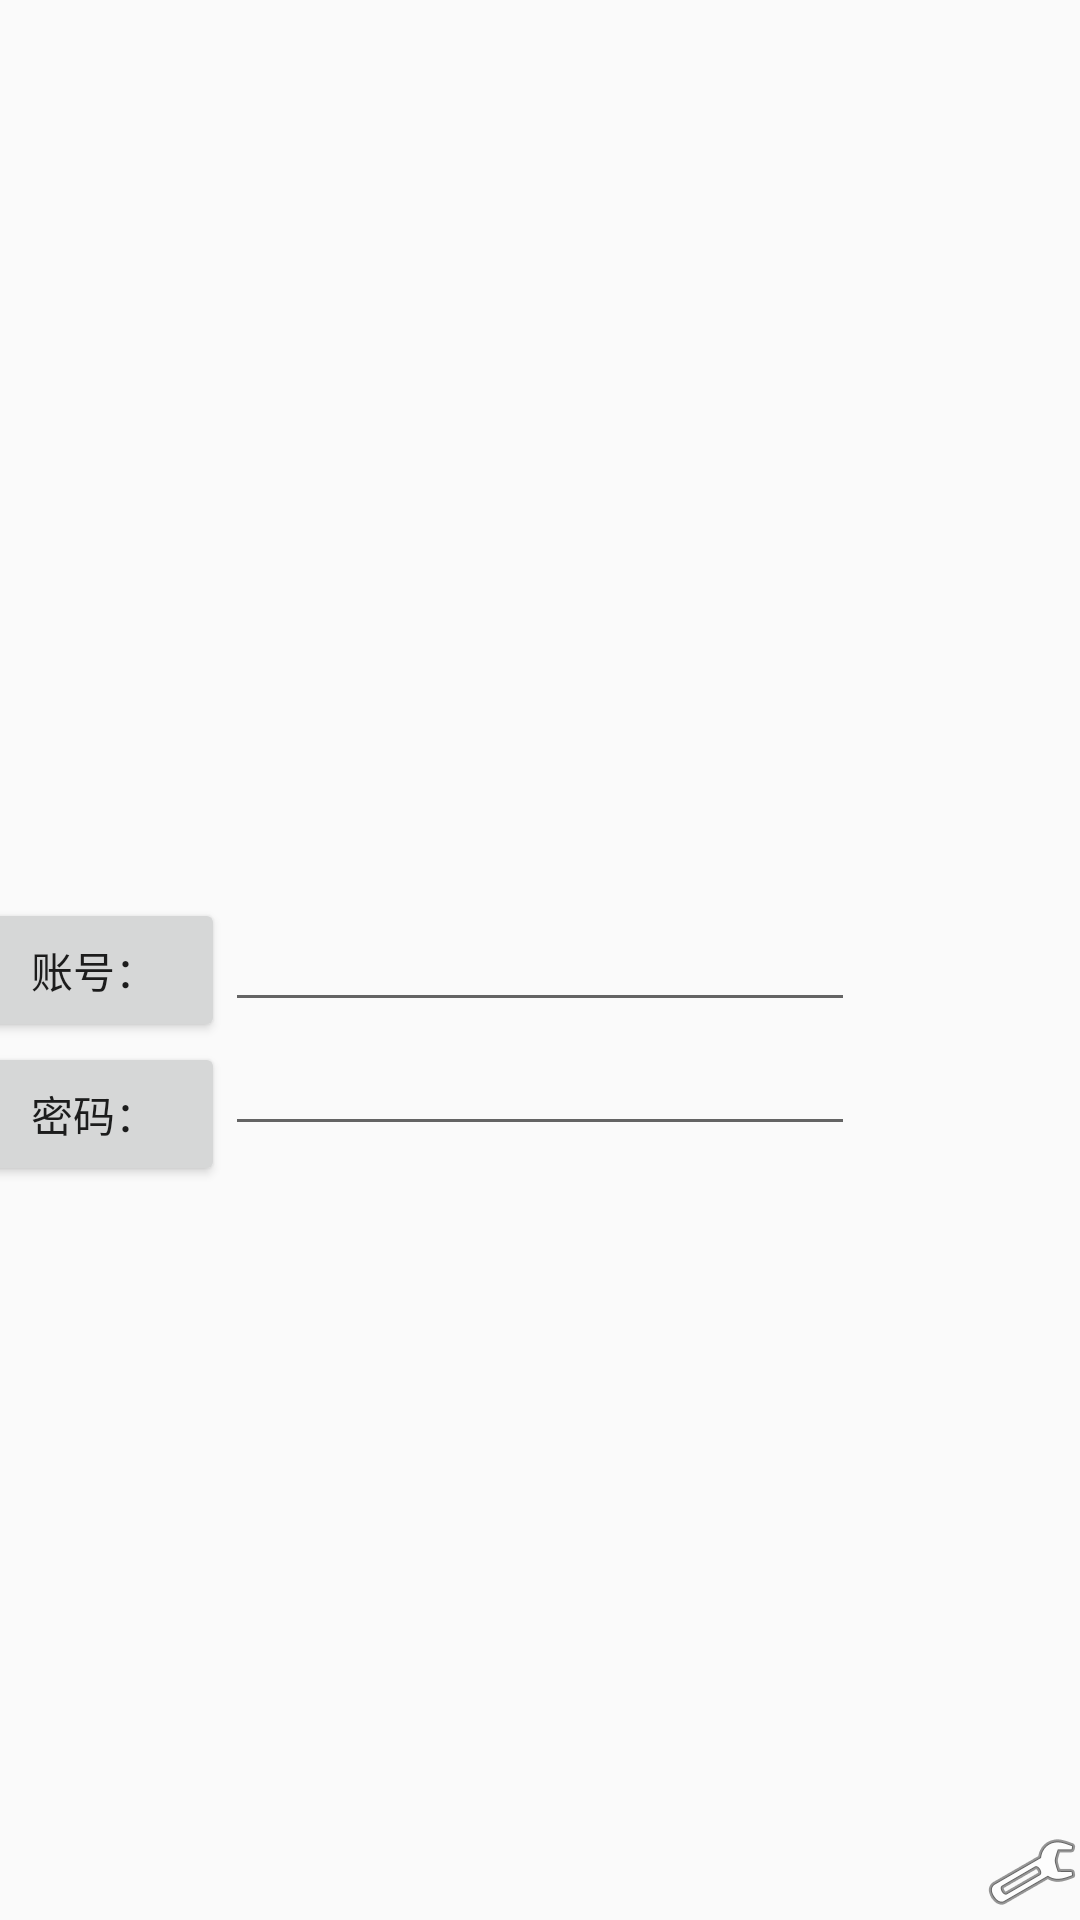

Named icons in this screenshot (1080×1920) and their centers, [x,y]:
manage: [1032,1872]
